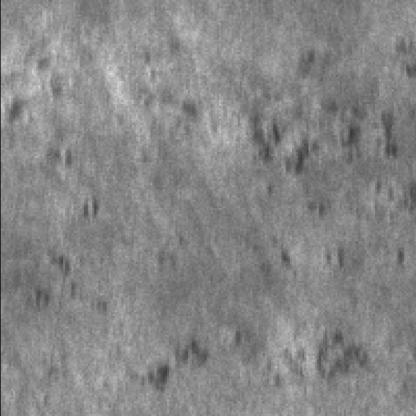rolled-in_scale: (156, 58, 410, 212), (133, 310, 385, 391), (31, 71, 106, 312)
